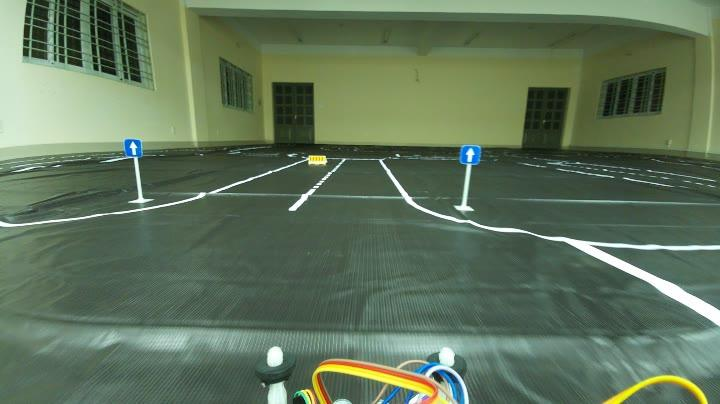onewayroad: (458, 143, 480, 167), (122, 137, 146, 159)
roadblock: (305, 154, 328, 166)
